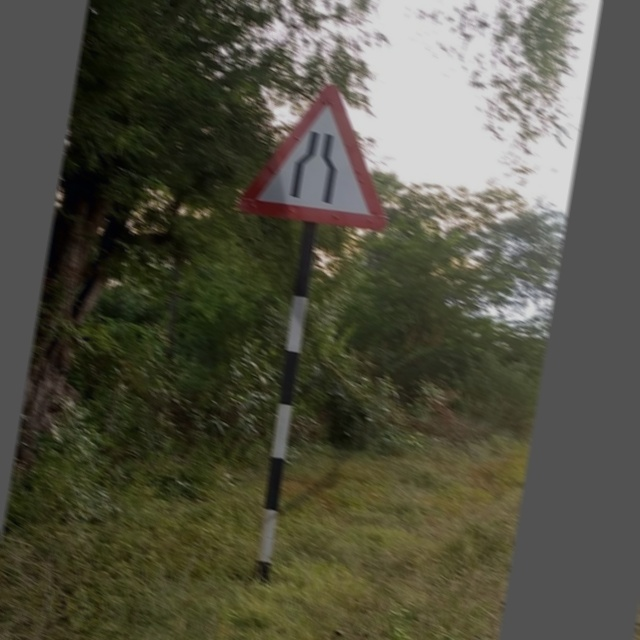Narrow_Road_Ahead: (230, 68, 410, 238)
